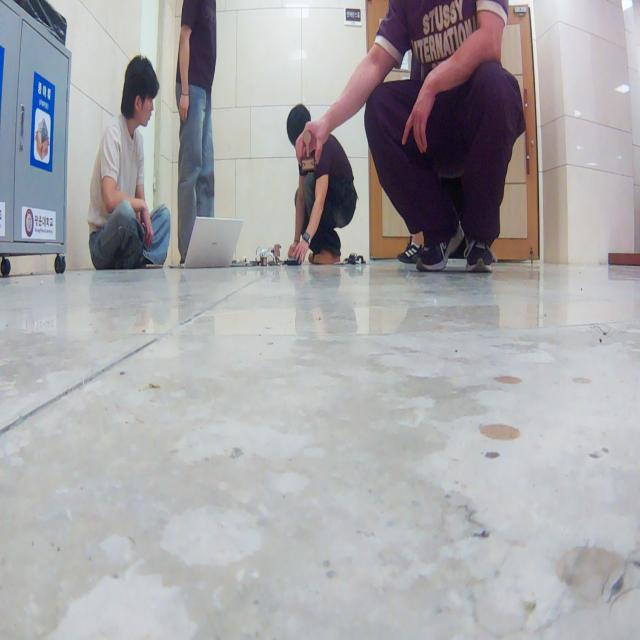target: (299, 130, 316, 177)
